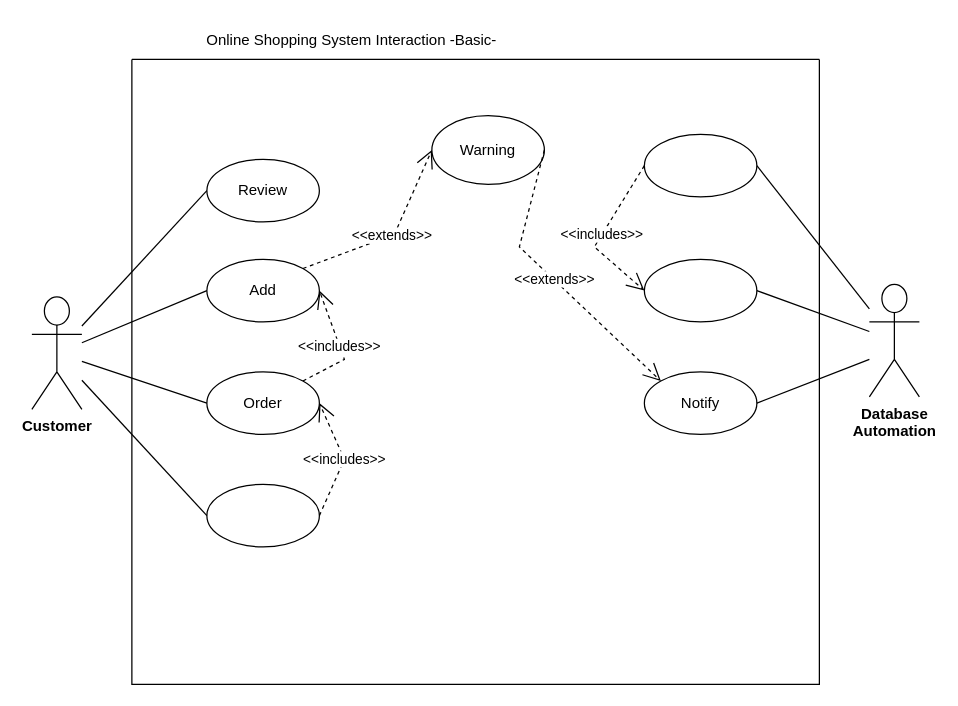
Image size: 958x706. Some labels were removed from this diagram. The shapes that lost their labels are listed below. From the top down, each one's centre as x and y in pixels, then its label:
At (700,165): "Control".
At (700,290): "Provide".
At (262,515): "Pay".
